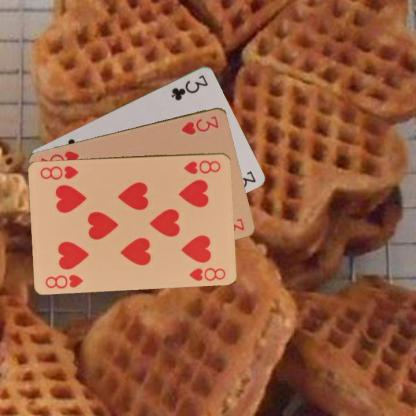3c: (169, 72, 209, 102)
3h: (179, 112, 220, 136)
8h: (181, 157, 222, 175), (43, 271, 84, 289)
